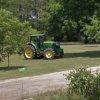Tractor: (21, 28, 64, 62)
